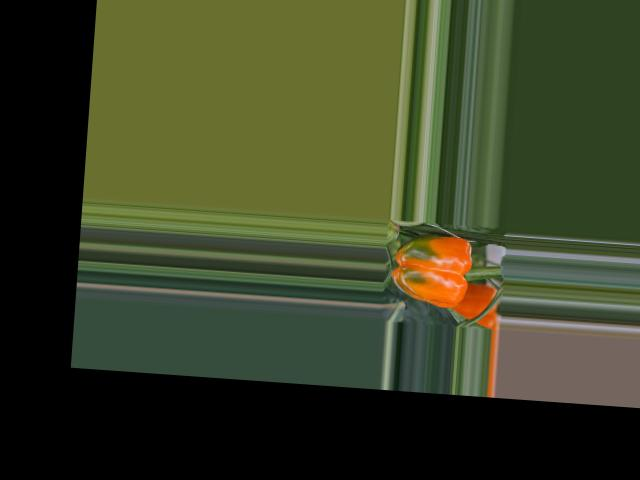bell_pepper: (383, 222, 483, 313)
